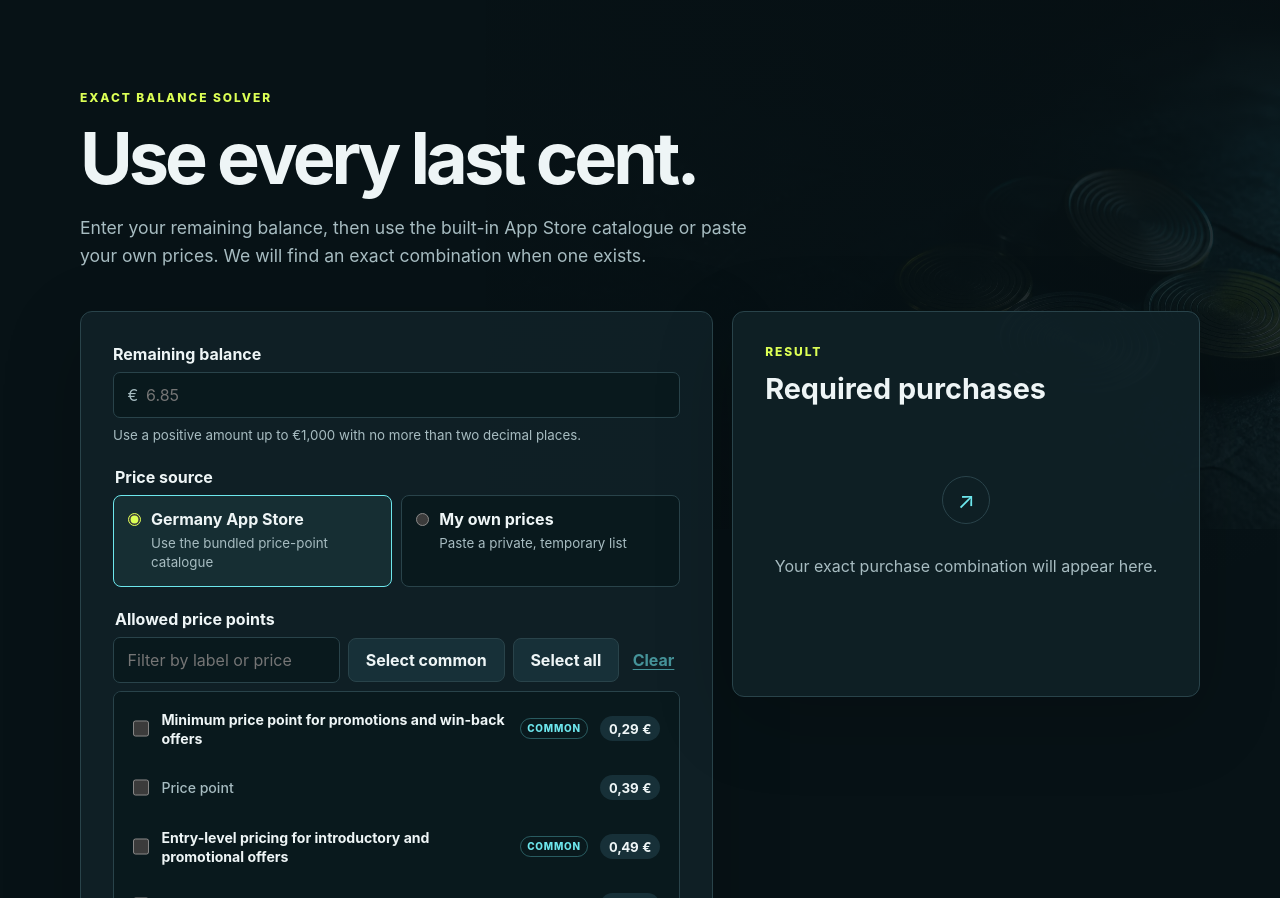
Test: balance solver view › shows the returned exact purchase combination
Step 1. Type "1.98" into the field with id "balance" → (396, 395), box [113, 372, 680, 418]
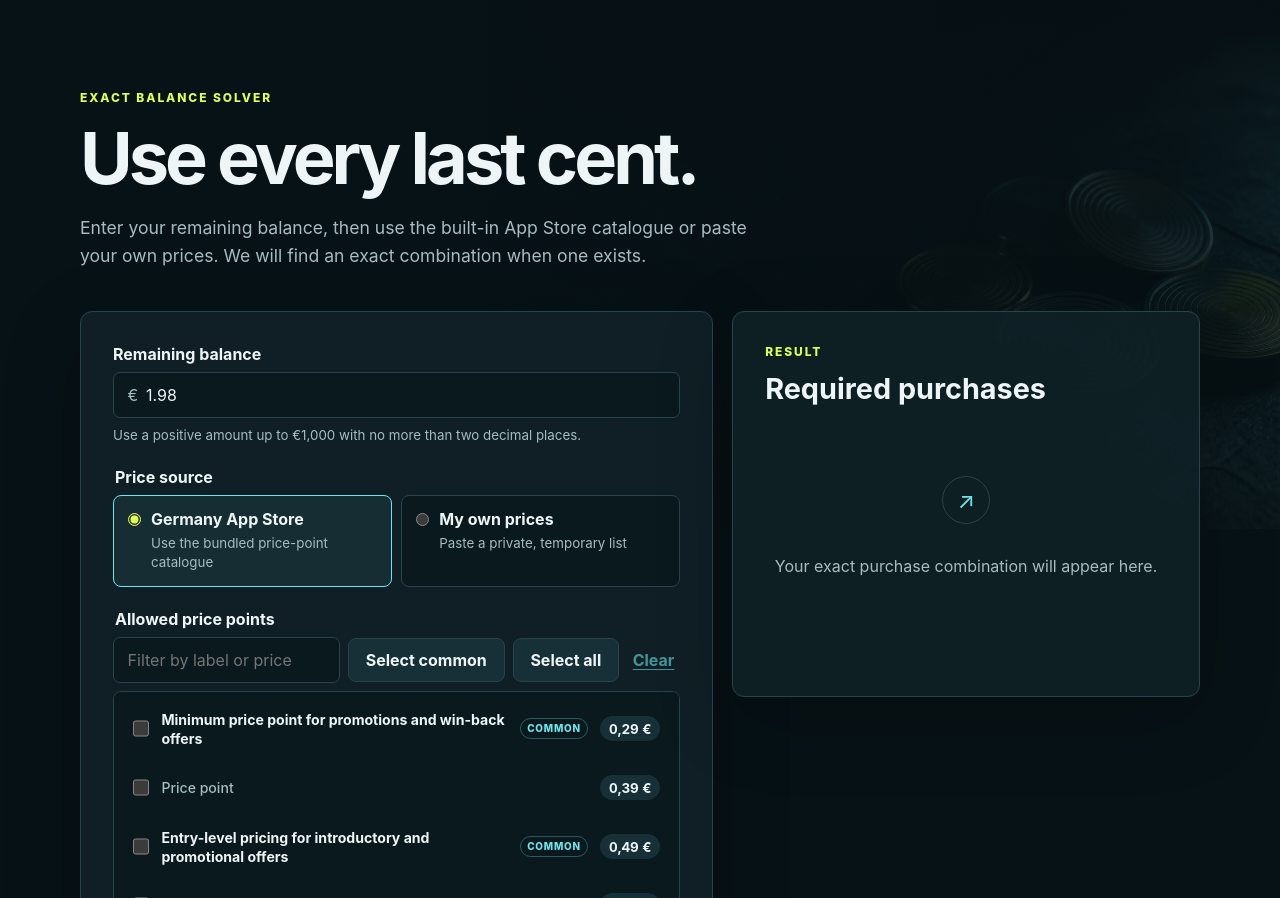
Step 2. Click the button "Select all" → (566, 660), box [513, 638, 619, 682]
(page scrolled)
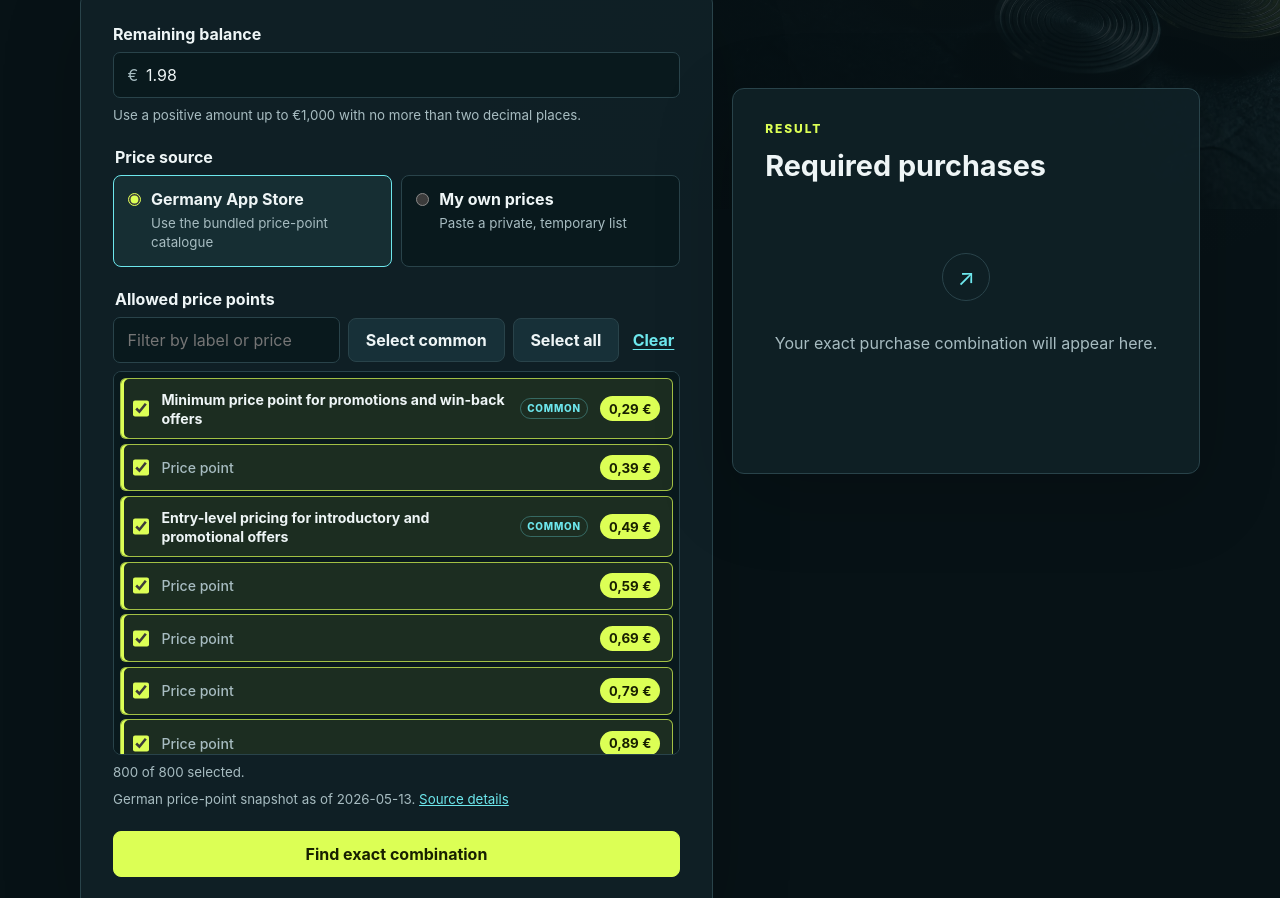
Step 3. Submit the form
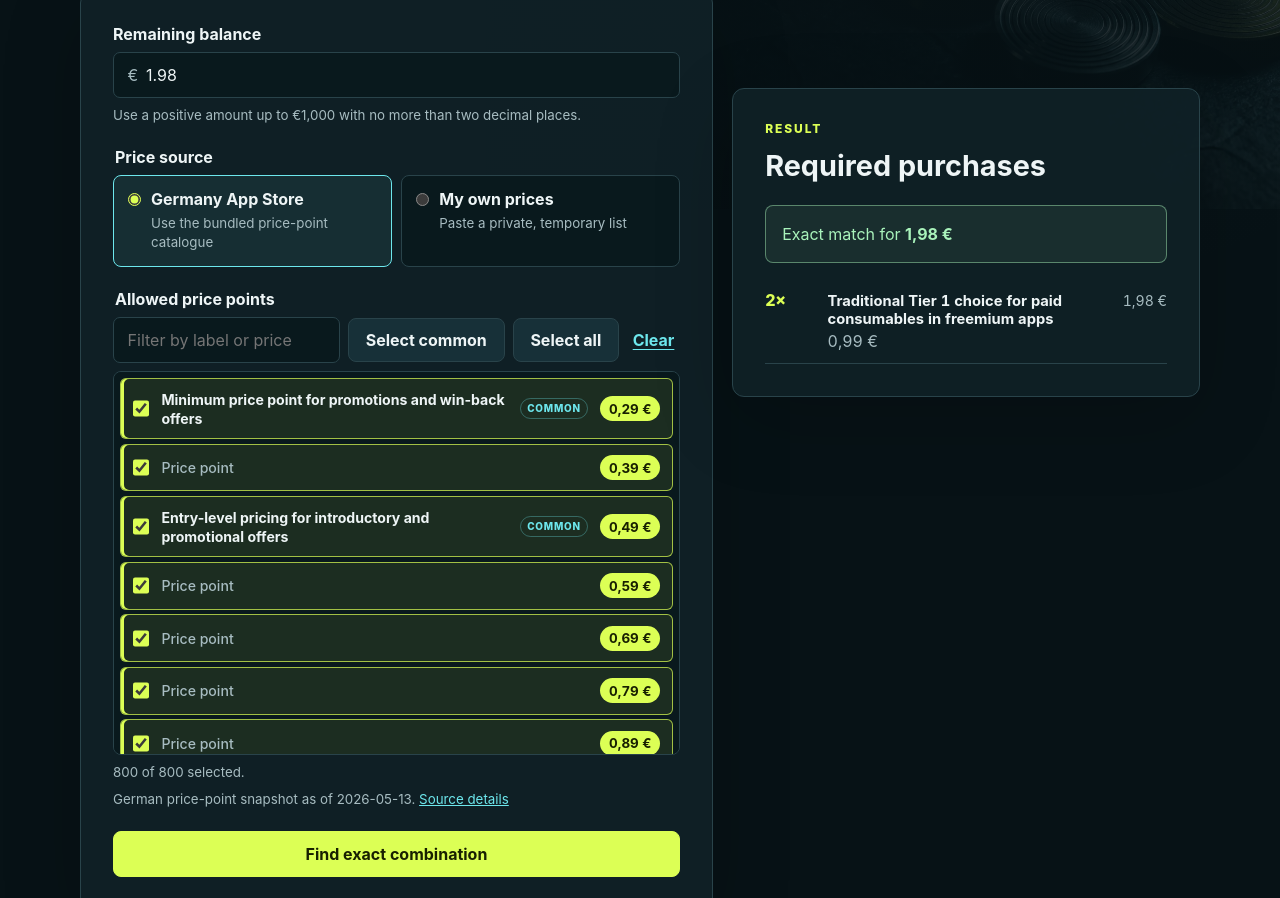
Now the text "Exact match for" is shown, box [782, 224, 905, 244]
Now the text "2×" is shown, box [765, 291, 786, 311]
Now the text "0,99" is shown, box [828, 332, 878, 352]
